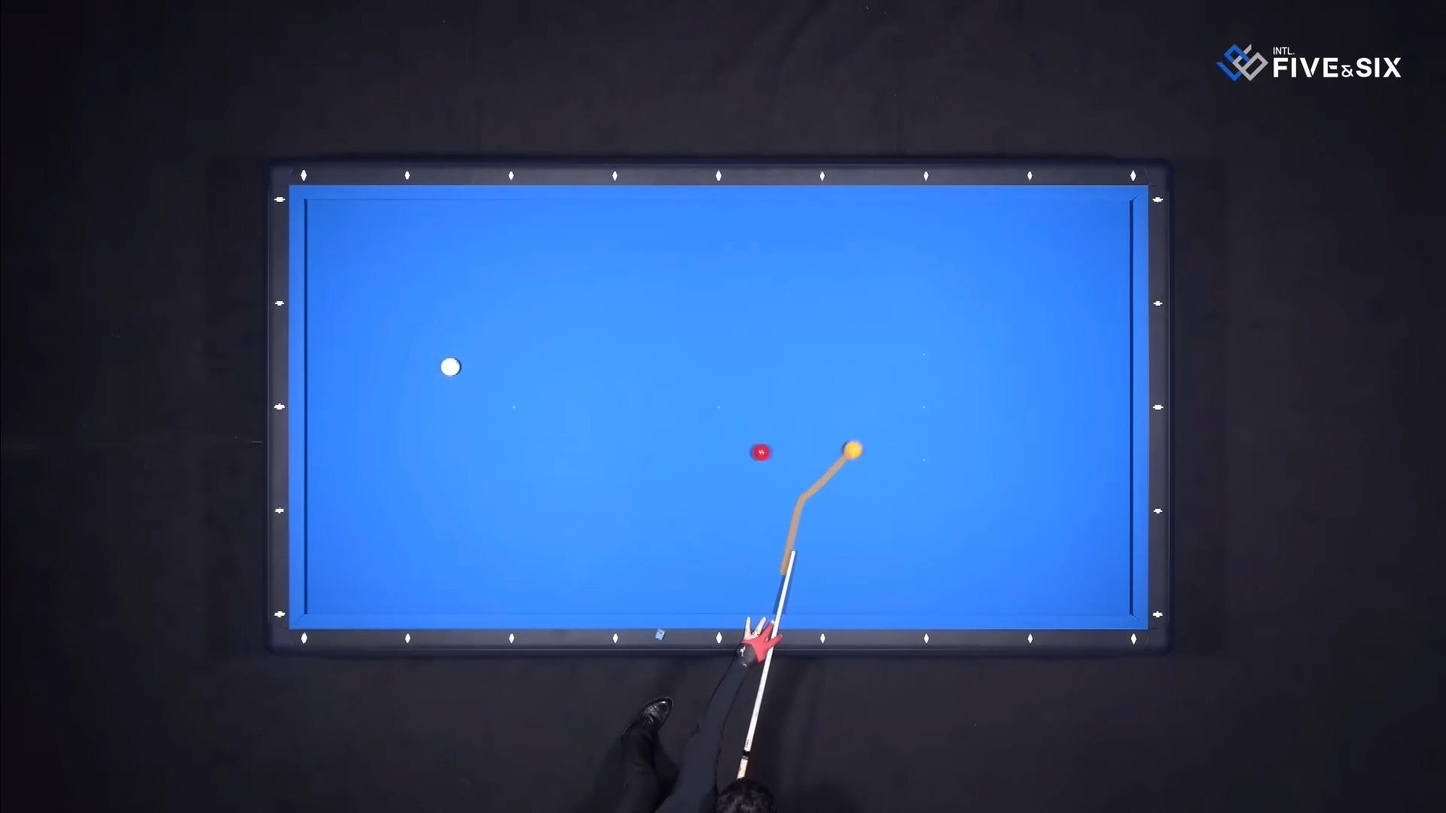Red: (752, 444, 777, 463)
White: (436, 357, 461, 377)
Yellow: (842, 441, 868, 460)
